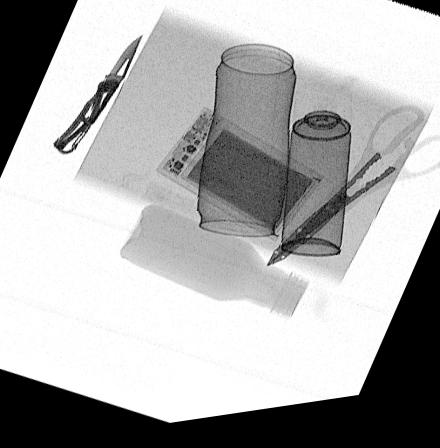Knife: (50, 39, 142, 156)
Powerbank: (152, 109, 323, 247)
Scissors: (269, 118, 440, 272)
Sprayer: (280, 91, 353, 267)
